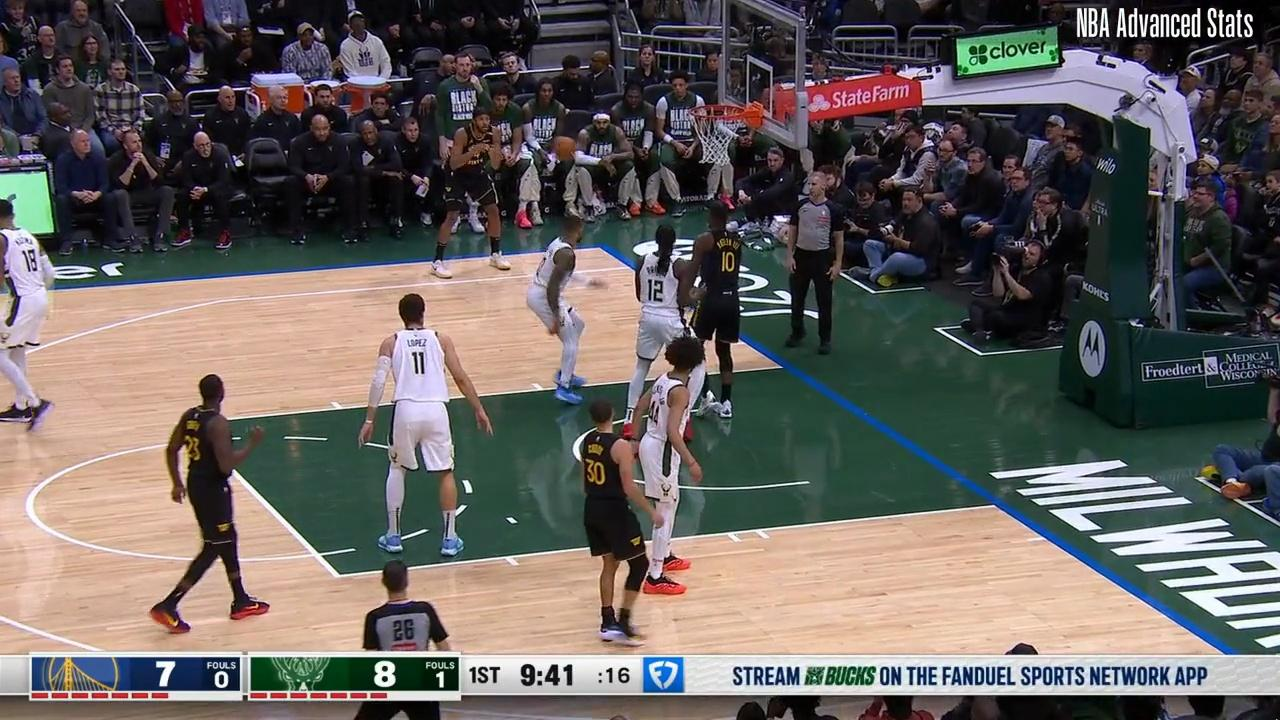basketball: (549, 136, 577, 163)
